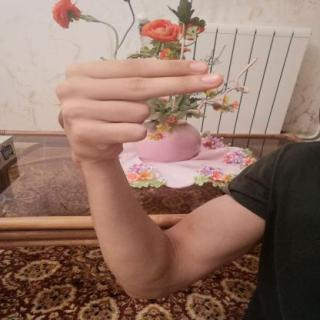AYN: (43, 50, 236, 172)
